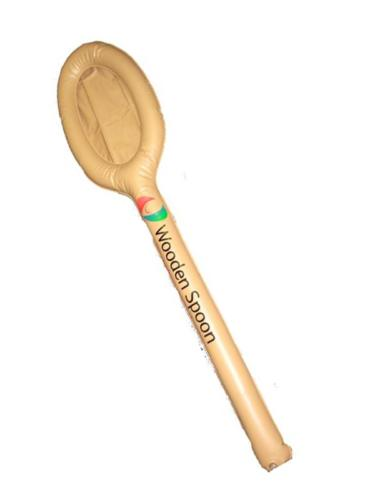Spoon: (55, 38, 294, 472)
